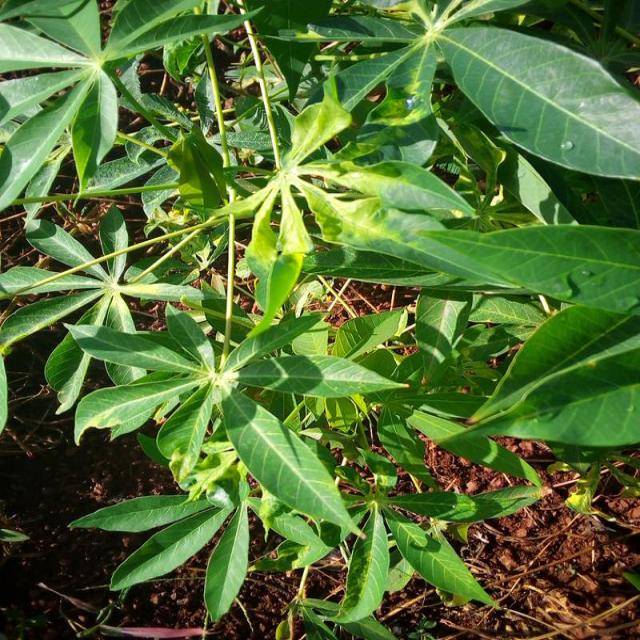cassava leaf: (0, 1, 638, 634), (435, 22, 639, 180), (219, 386, 362, 545)
